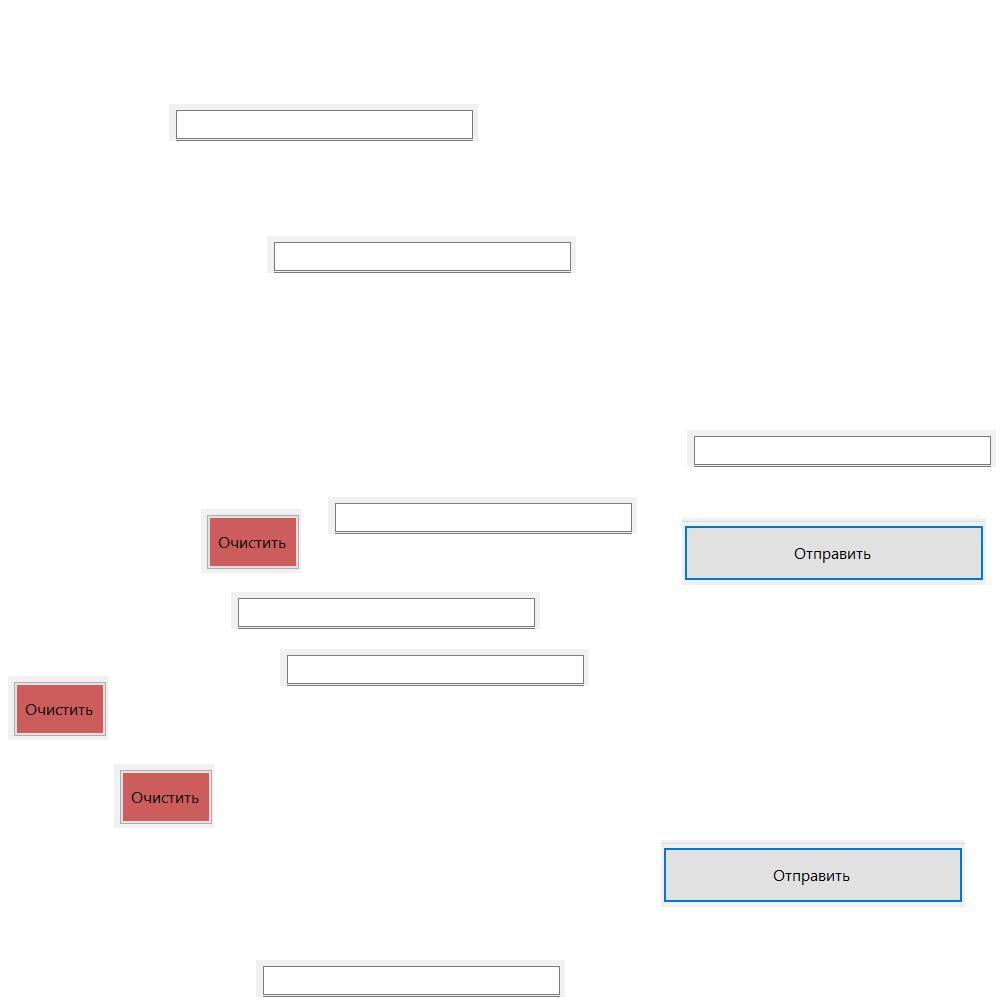Button: (661, 840, 965, 907), (682, 518, 986, 585), (114, 764, 214, 828), (8, 676, 108, 740), (201, 509, 301, 573)
EditText-: (267, 236, 576, 273), (687, 430, 996, 467), (231, 592, 540, 629), (256, 960, 565, 997), (280, 649, 589, 686), (328, 497, 637, 534), (169, 104, 478, 141)
